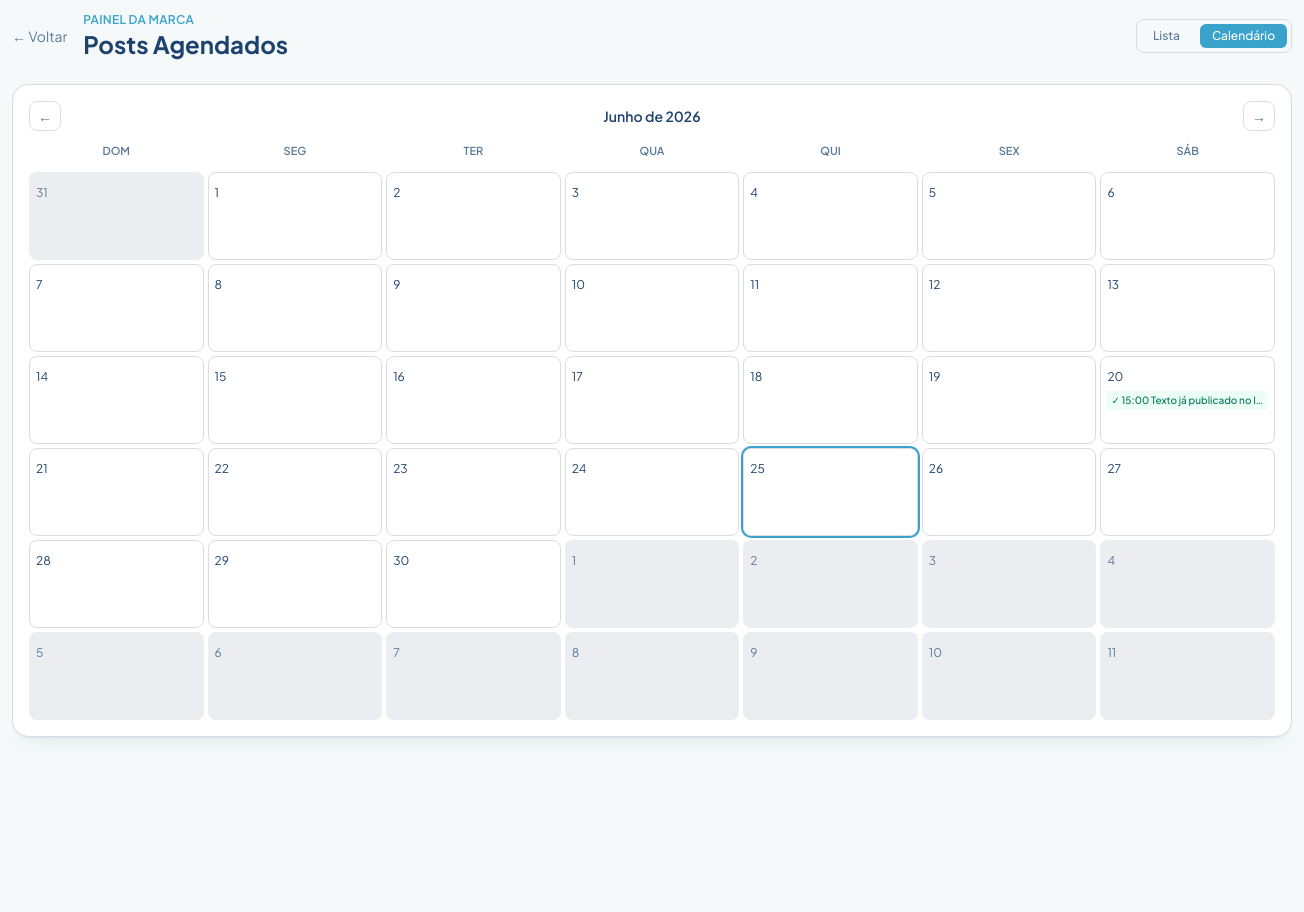
Test: ScheduledPostsPage › posts publicados › mostra o selo "Automático" para post publicado pelo tick de autonomia
Click the button "Lista".
click(1166, 36)  # box top-left (1141, 24), bottom-right (1192, 48)
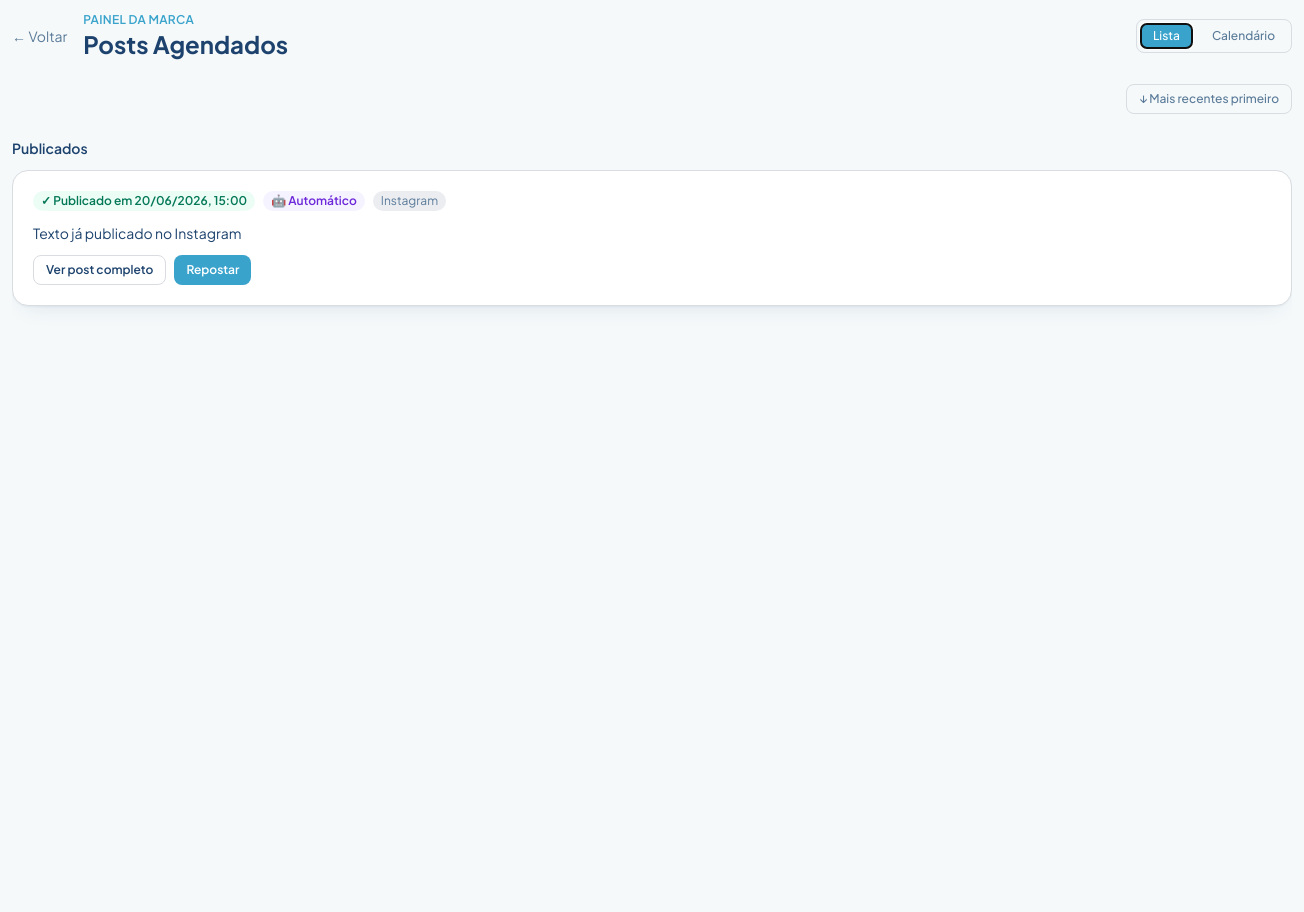
Expected: the text "🤖 Automático" is shown, top-left (263, 191), bottom-right (365, 211)
